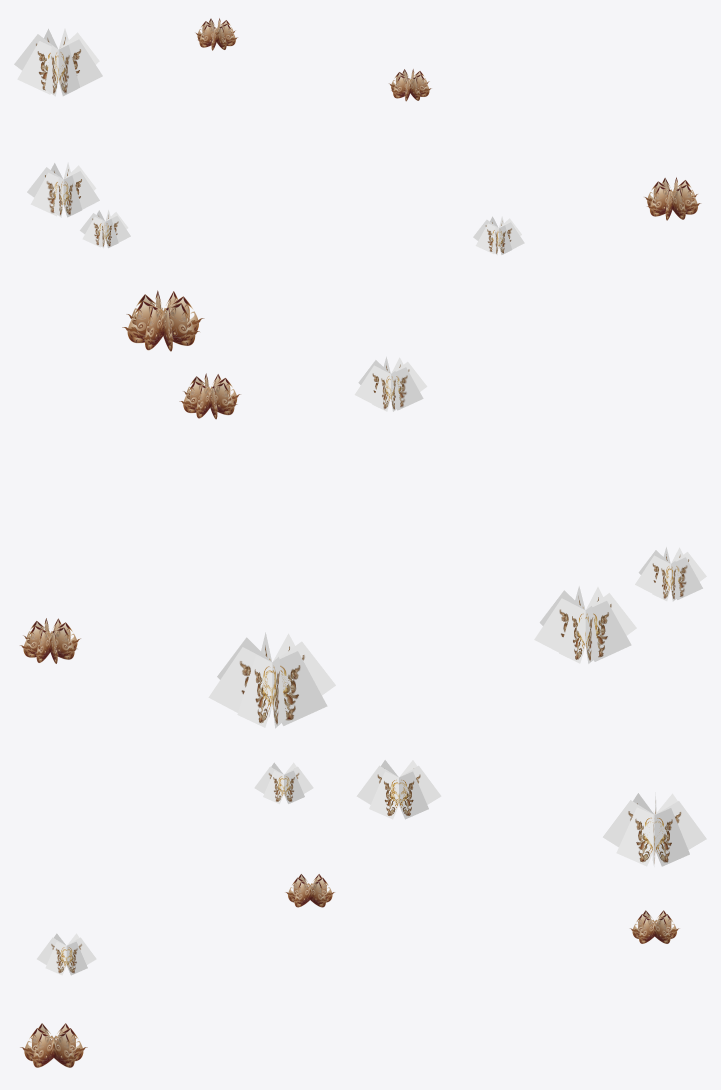
Rendered from all_Art_Decor.glb.
3 views of the same model, one above another, from view 1: azimuth 30°, elevation 25°; view 2: azimuth 150°, elevation 25°; view 3: azimuth 270°, elevation 25° (orthographic). The views are drawn at different scales.
Visible parts, largest first — view 1: Art_decor_01.002, Art_decor_01.003, Art_decor_02.002, Art_decor_01, Art_decor_01.001, Art_decor_02, Art_decor_02.001; view 2: Art_decor_01.002, Art_decor_01.003, Art_decor_02.002, Art_decor_01, Art_decor_01.001, Art_decor_02.001, Art_decor_02; view 3: Art_decor_01.002, Art_decor_01.003, Art_decor_02.002, Art_decor_01, Art_decor_01.001, Art_decor_02.001, Art_decor_02.
Part boxes in pixels (x1,y1,x2,y2): Art_decor_01.002: [14, 28, 102, 96]; Art_decor_01.003: [27, 162, 99, 217]; Art_decor_02.002: [644, 177, 701, 220]; Art_decor_01: [473, 216, 524, 255]; Art_decor_01.001: [80, 210, 130, 248]; Art_decor_02: [195, 18, 238, 50]; Art_decor_02.001: [388, 69, 431, 101]; Art_decor_01.002: [208, 632, 335, 728]; Art_decor_01.003: [534, 586, 636, 663]; Art_decor_02.002: [122, 290, 204, 351]; Art_decor_01: [354, 356, 427, 411]; Art_decor_01.001: [635, 547, 706, 601]; Art_decor_02.001: [179, 373, 240, 419]; Art_decor_02: [19, 618, 80, 663]; Art_decor_01.002: [603, 792, 706, 866]; Art_decor_01.003: [356, 760, 441, 819]; Art_decor_02.002: [20, 1023, 87, 1067]; Art_decor_01: [37, 933, 96, 975]; Art_decor_01.001: [254, 762, 313, 804]; Art_decor_02.001: [285, 874, 335, 907]; Art_decor_02: [629, 910, 679, 943].
Size of what is drawn, in the model's own units: 27.77 by 5.34 by 28.67.
Materials: 2 (2 with a texture image).
